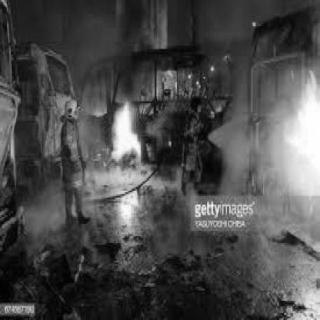other: (195, 54, 232, 88), (242, 7, 262, 38)
